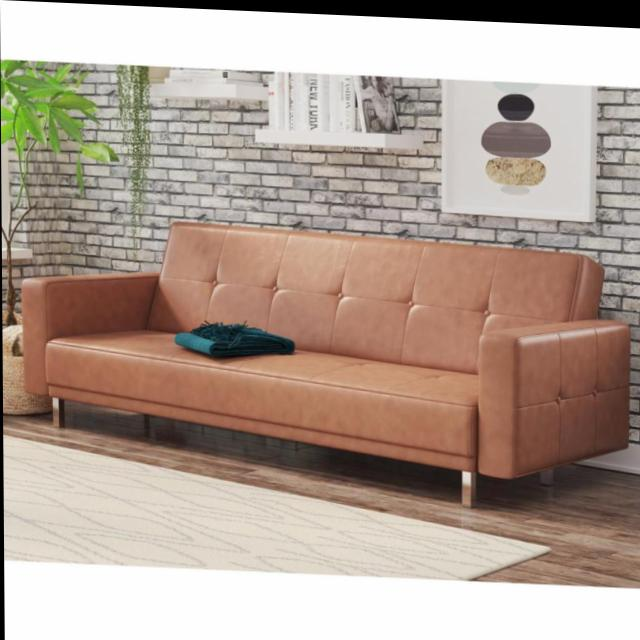Sofa: (19, 214, 631, 509)
